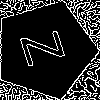Z: (20, 25, 75, 68)
